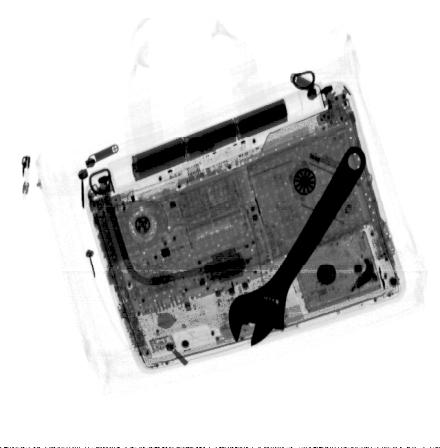Wrench: (227, 143, 368, 348)
